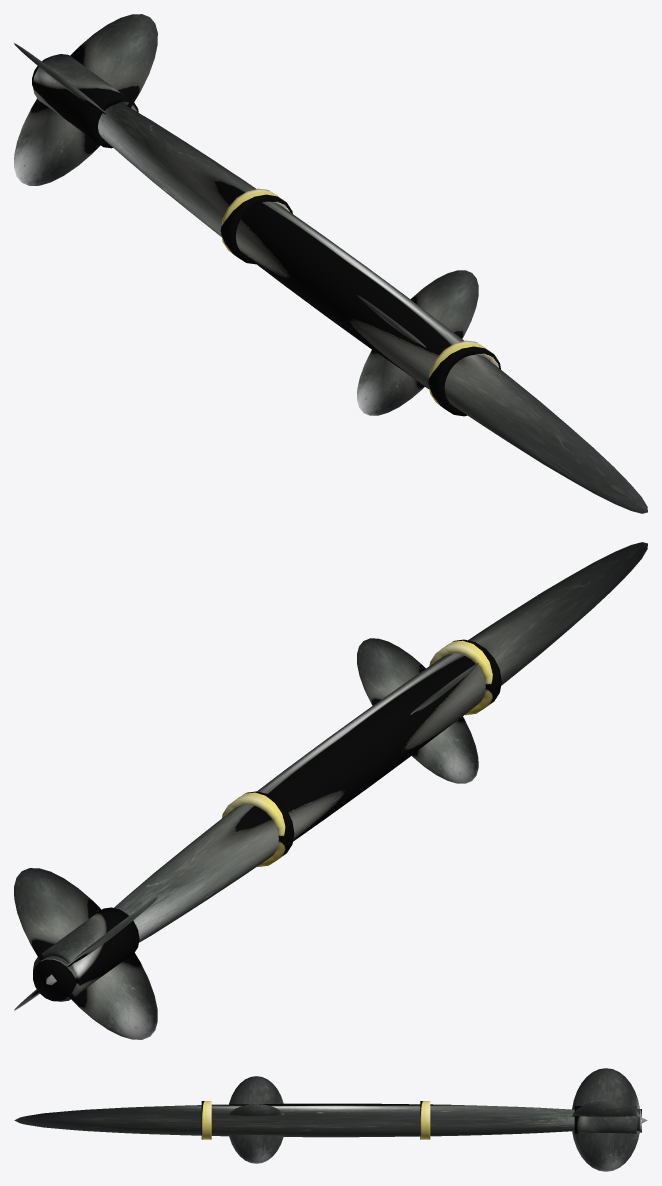
Rendered from missile2.glb.
3 renders of one model, top to bottom at view 1: azimuth 30°, elevation 25°; view 2: azimuth 150°, elevation 25°; view 3: azimuth 270°, elevation 25°, orthographic. The views are drawn at different scales.
Parts seen in each view (by area): view 1: Object_2, Object_3, Object_4; view 2: Object_2, Object_3, Object_4; view 3: Object_2, Object_3, Object_4.
Boxes of the visible parts, box(x1,y1,x2,y2) form: Object_2: box(98, 103, 647, 513); Object_3: box(14, 14, 478, 415); Object_4: box(220, 188, 500, 416); Object_2: box(46, 542, 647, 985); Object_3: box(14, 638, 478, 1039); Object_4: box(222, 639, 501, 866); Object_2: box(14, 1103, 647, 1137); Object_3: box(228, 1068, 641, 1171); Object_4: box(201, 1101, 430, 1139).
Bounding box in the file's own units: 14.95 × 14.95 × 121.
3 materials, 3 textured.
